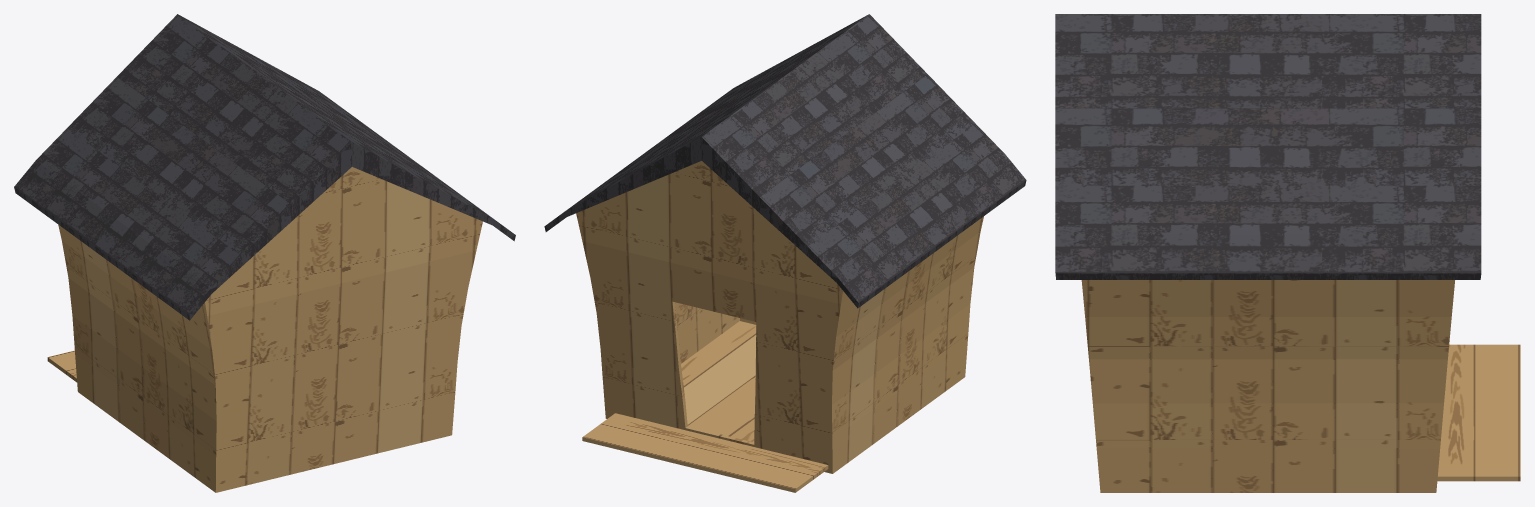
The model's file is tree house(HouseAndRoof).fbx.
3 views of the same model, side by side, from view 1: azimuth 30°, elevation 25°; view 2: azimuth 150°, elevation 25°; view 3: azimuth 270°, elevation 25° (orthographic). The views are drawn at different scales.
Visible parts, largest first — view 1: TreeHouse, TreeHouse Roof; view 2: TreeHouse, TreeHouse Roof; view 3: TreeHouse Roof, TreeHouse.
Boxes of the visible parts, box(x1,y1,x2,y2) form: TreeHouse: box(47, 167, 482, 492); TreeHouse Roof: box(14, 14, 515, 320); TreeHouse: box(576, 161, 983, 492); TreeHouse Roof: box(544, 14, 1026, 308); TreeHouse Roof: box(1055, 14, 1481, 279); TreeHouse: box(1081, 280, 1520, 492).
Size of the model in its own units: 511 by 517 by 501.
